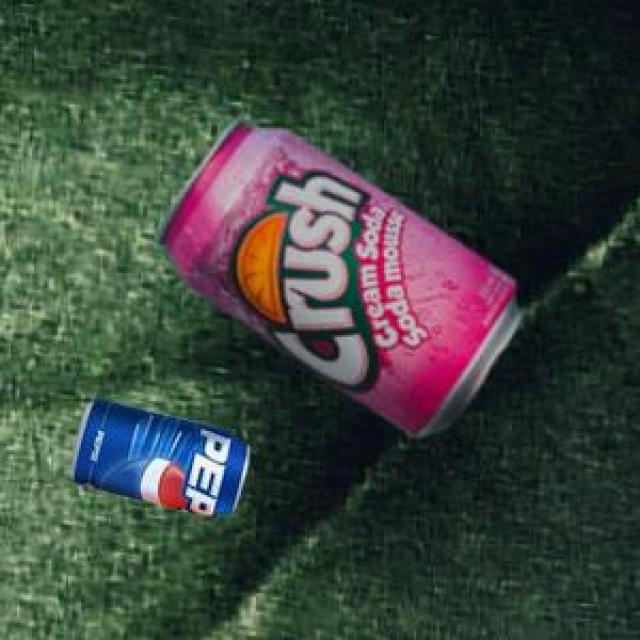logam: (153, 116, 517, 432), (69, 396, 246, 513)
